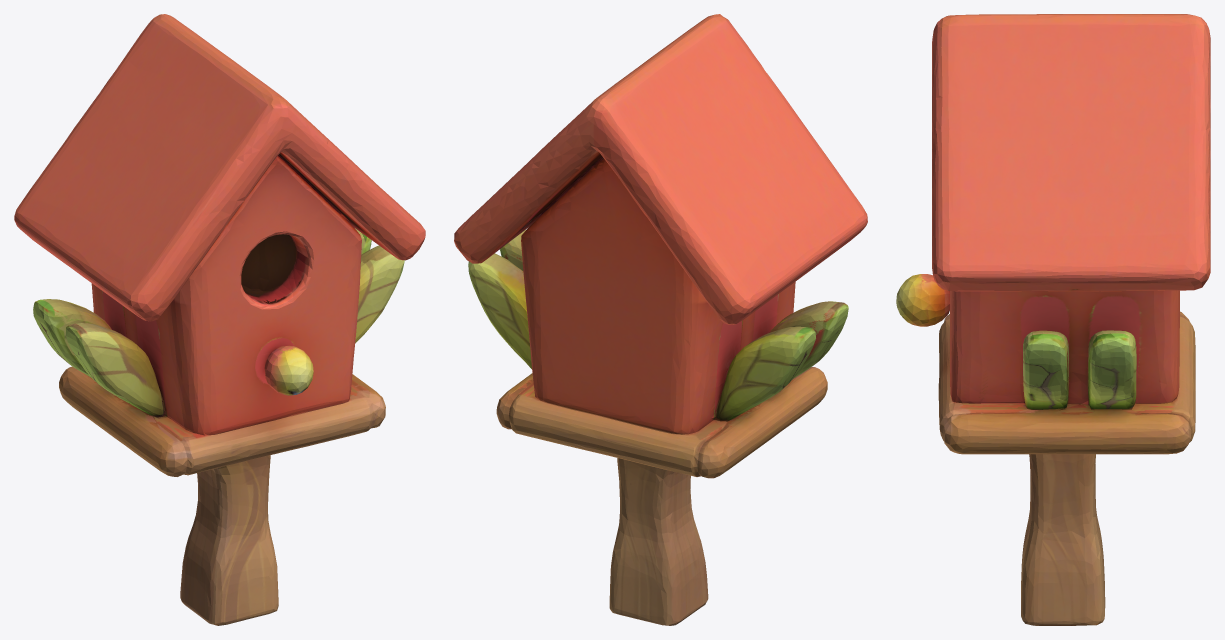
File: Meshy_Bird - Copy.obj
3 renders of one model, left to right at view 1: azimuth 30°, elevation 25°; view 2: azimuth 150°, elevation 25°; view 3: azimuth 270°, elevation 25°, orthographic. The views are drawn at different scales.
Parts seen in each view (by area): view 1: Create_a_3d_model_of__0416232802_texture; view 2: Create_a_3d_model_of__0416232802_texture; view 3: Create_a_3d_model_of__0416232802_texture.
Part boxes in pixels (x1,y1,x2,y2): Create_a_3d_model_of__0416232802_texture: (14, 14, 425, 625); Create_a_3d_model_of__0416232802_texture: (454, 14, 867, 625); Create_a_3d_model_of__0416232802_texture: (896, 14, 1210, 625).
Size of the model in its own units: 1.26 by 2 by 0.9616.
